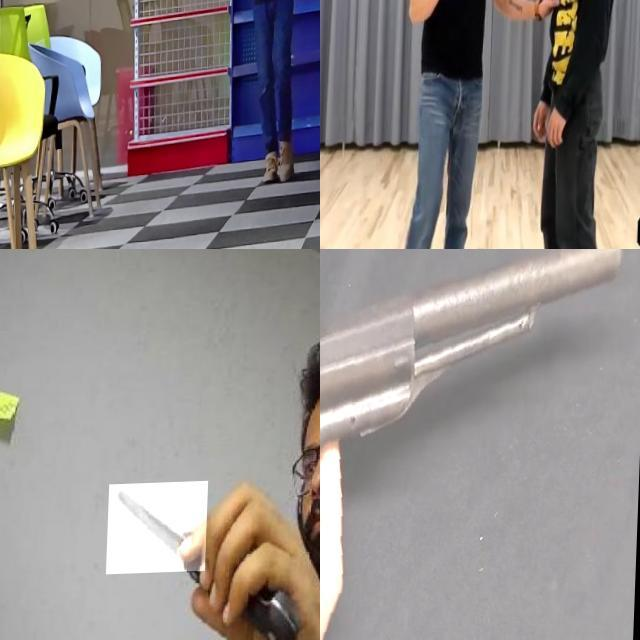-: (109, 483, 211, 576), (438, 0, 463, 41)
gun-knife-thesis - v11 Yolov5 augmented: (320, 249, 640, 640), (255, 0, 281, 21)
